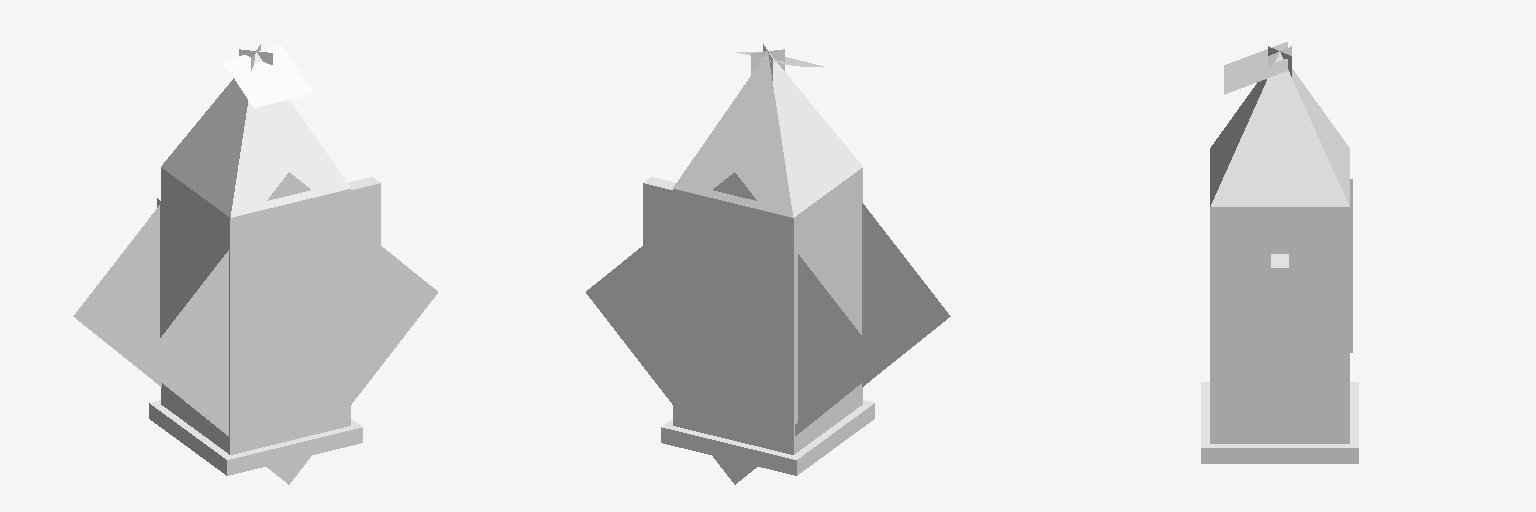
The model's file is candle_lantern_wall.obj.
3 views of the same model, side by side, from view 1: azimuth 30°, elevation 25°; view 2: azimuth 150°, elevation 25°; view 3: azimuth 270°, elevation 25° (orthographic).
Visible parts, largest first — view 1: hull, holes-sides, door, base, ring, cube.000; view 2: hull, holes-sides, base, door, cube.000; view 3: hull, base, cube.000, ring.
Boxes of the visible parts, box(x1,y1,x2,y2) form: hull: box(161, 52, 350, 454); holes-sides: box(73, 172, 437, 484); door: box(157, 198, 218, 337); base: box(149, 400, 362, 475); ring: box(222, 46, 313, 107); cube.000: box(348, 177, 380, 244); hull: box(673, 52, 862, 454); holes-sides: box(586, 172, 950, 484); base: box(661, 400, 874, 475); door: box(794, 206, 856, 424); cube.000: box(643, 177, 675, 244); hull: box(1210, 52, 1349, 443); base: box(1201, 382, 1358, 463); cube.000: box(1271, 254, 1288, 441); ring: box(1224, 42, 1287, 94).
Size of the model in its own units: 0.6497 by 0.8498 by 0.2953.